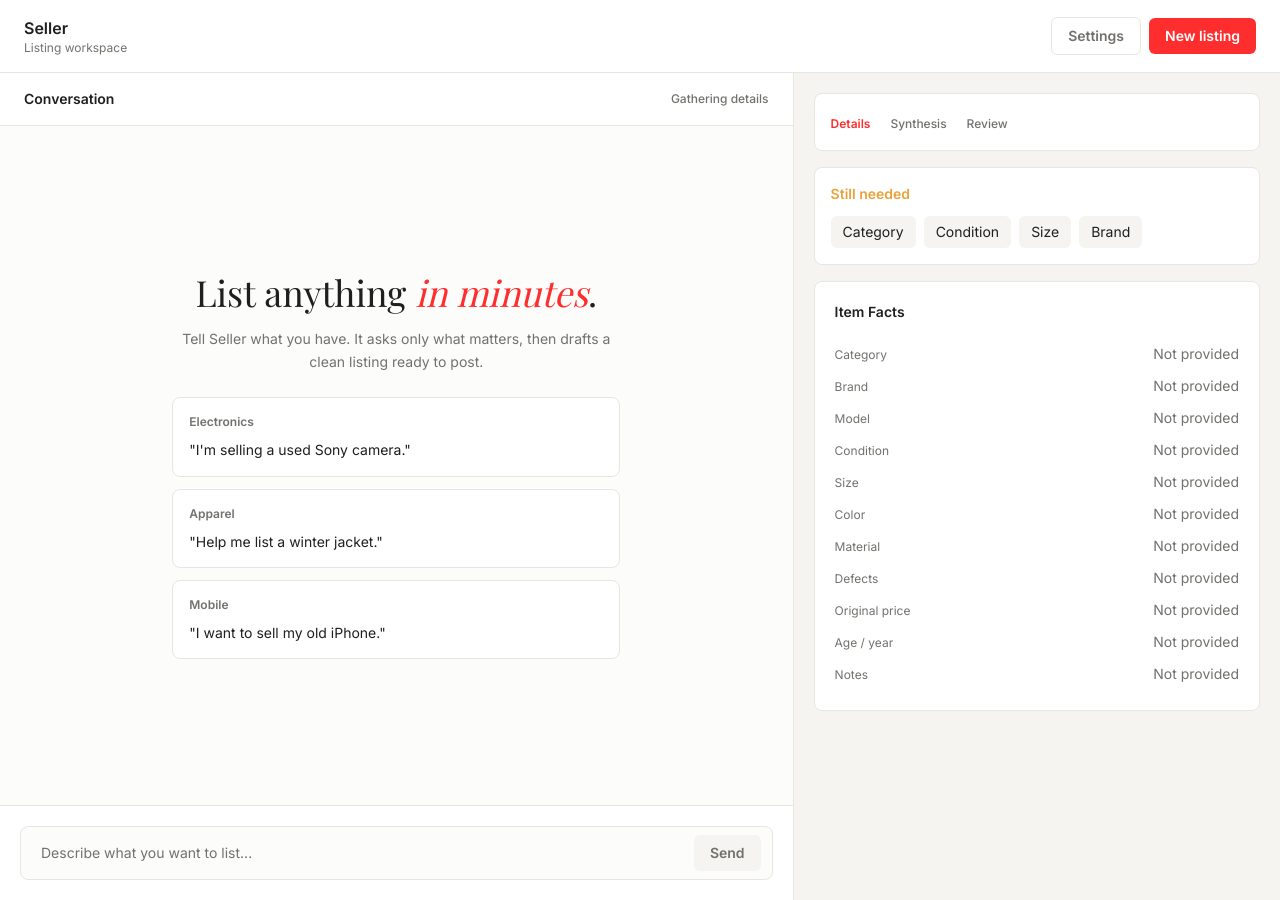
Scenario: SellerAgentPage › shows a friendly message for a 409 locked-conversation error
Expected: the heading "List anything in minutes." is shown, [172,272,620,312]
Type "another message" into the text box named "message".
click(396, 853); type("another message")  # box [20,826,773,880]
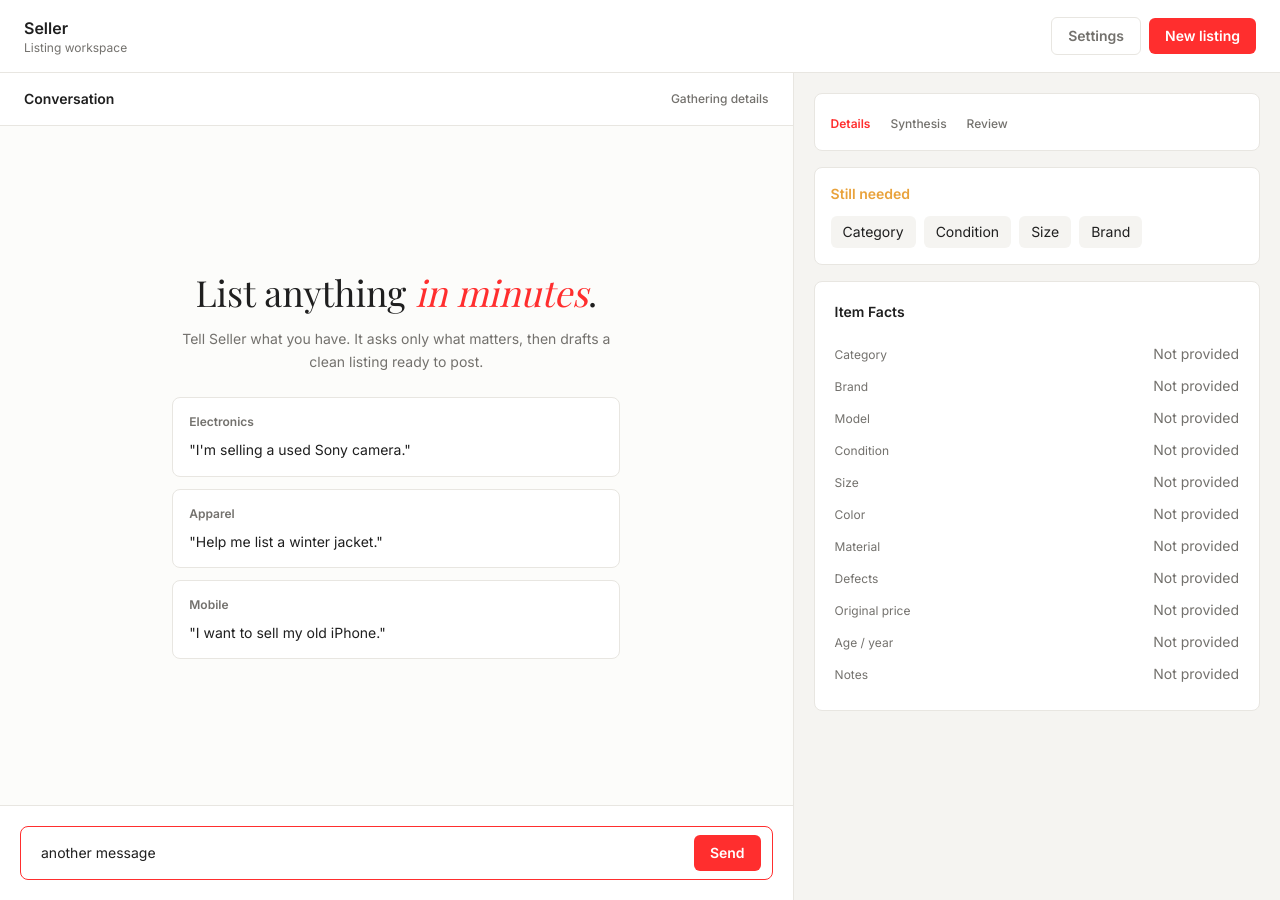
Click the button with aria-label "send message".
click(727, 853)  # box [694,835,761,871]
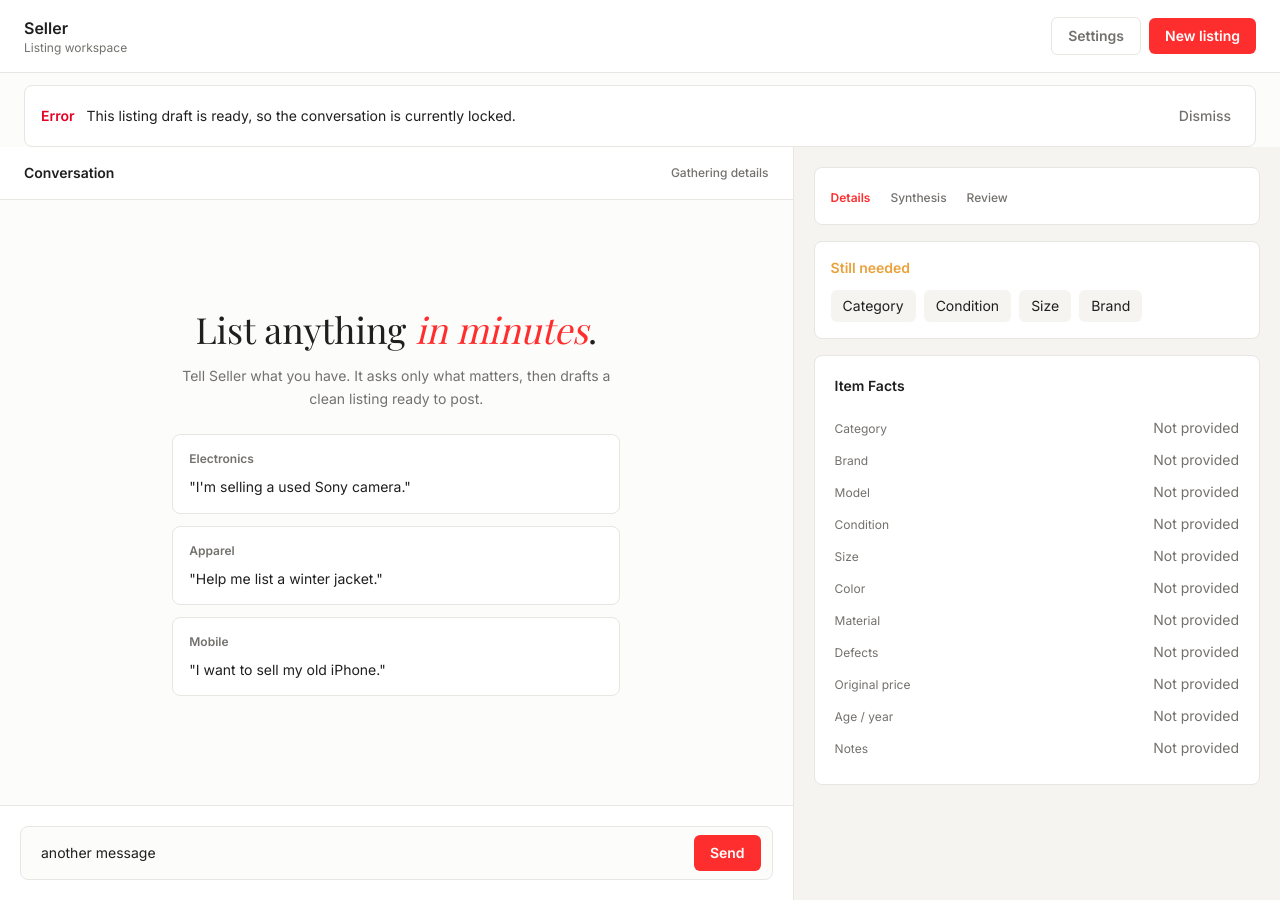
Expected: the message shows "listing draft is ready, so the conversation is currently locked", [86,107,516,124]
